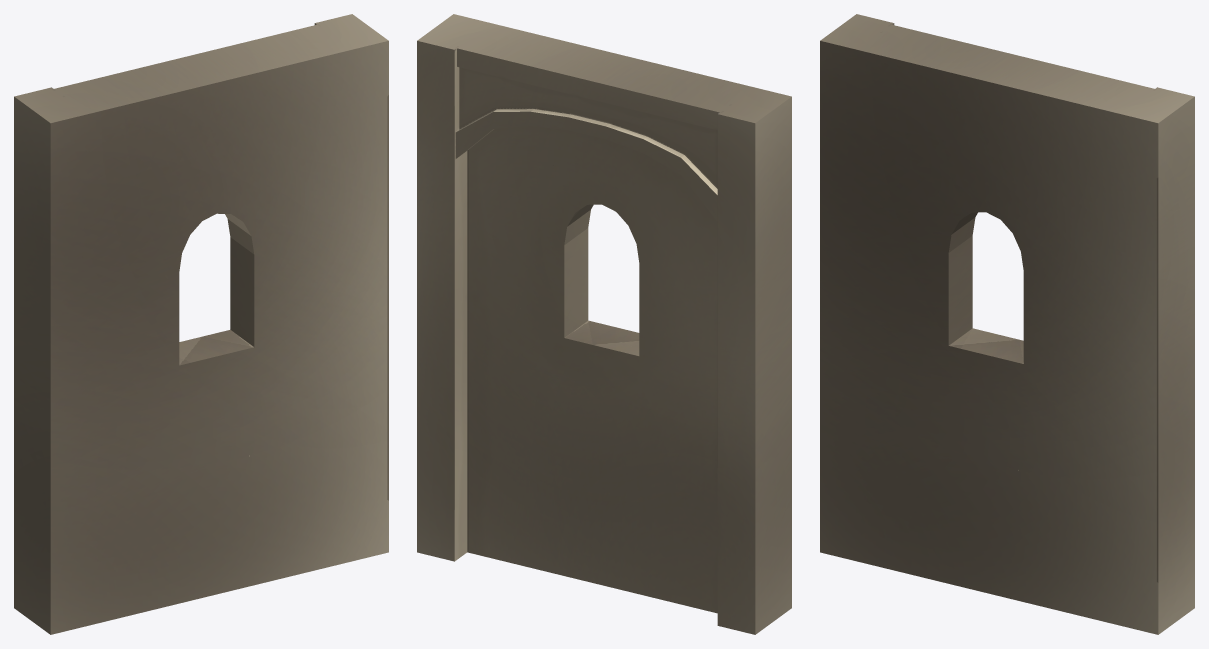
Rendered from bg_wall_window.fbx.
The picture shows the model from 3 angles, left to right: view 1: azimuth 30°, elevation 25°; view 2: azimuth 150°, elevation 25°; view 3: azimuth 330°, elevation 25°; orthographic projection.
Visible parts, largest first — view 1: bg_wall_window; view 2: bg_wall_window; view 3: bg_wall_window.
Boxes of the visible parts, x1,y1,x2,y2 form: bg_wall_window: [14, 14, 388, 634]; bg_wall_window: [417, 14, 791, 634]; bg_wall_window: [820, 14, 1194, 634].
Bounding box in the file's own units: 396 × 573 × 74.17.
